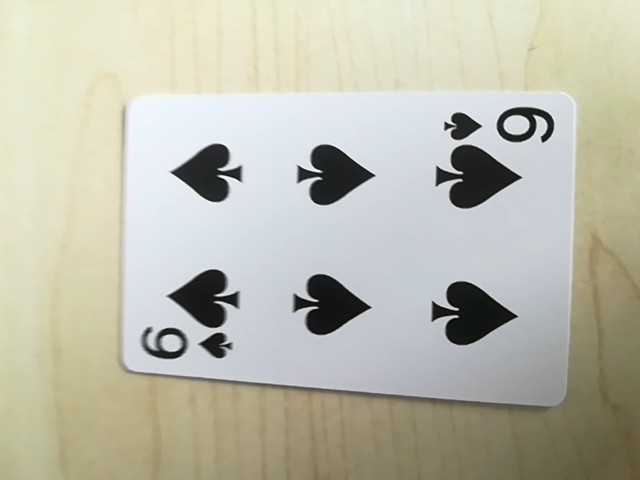ht 6: (440, 99, 558, 145), (137, 321, 239, 371)
